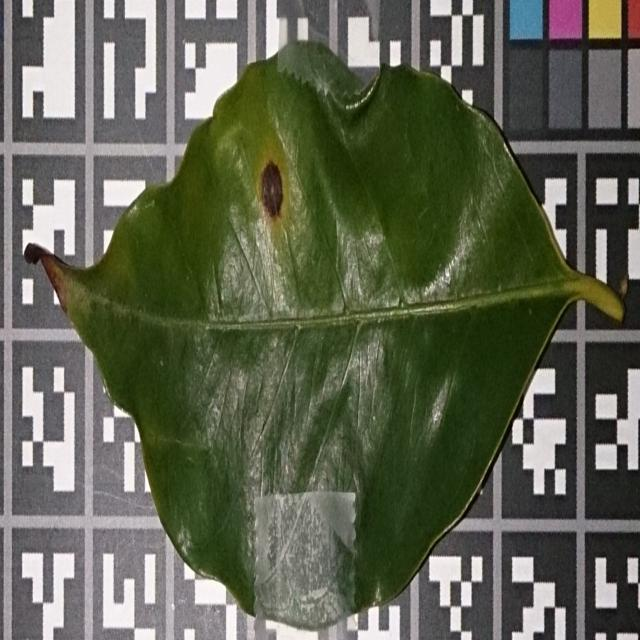Enfermedad-Mancha-de-hierro: (23, 41, 626, 633)
